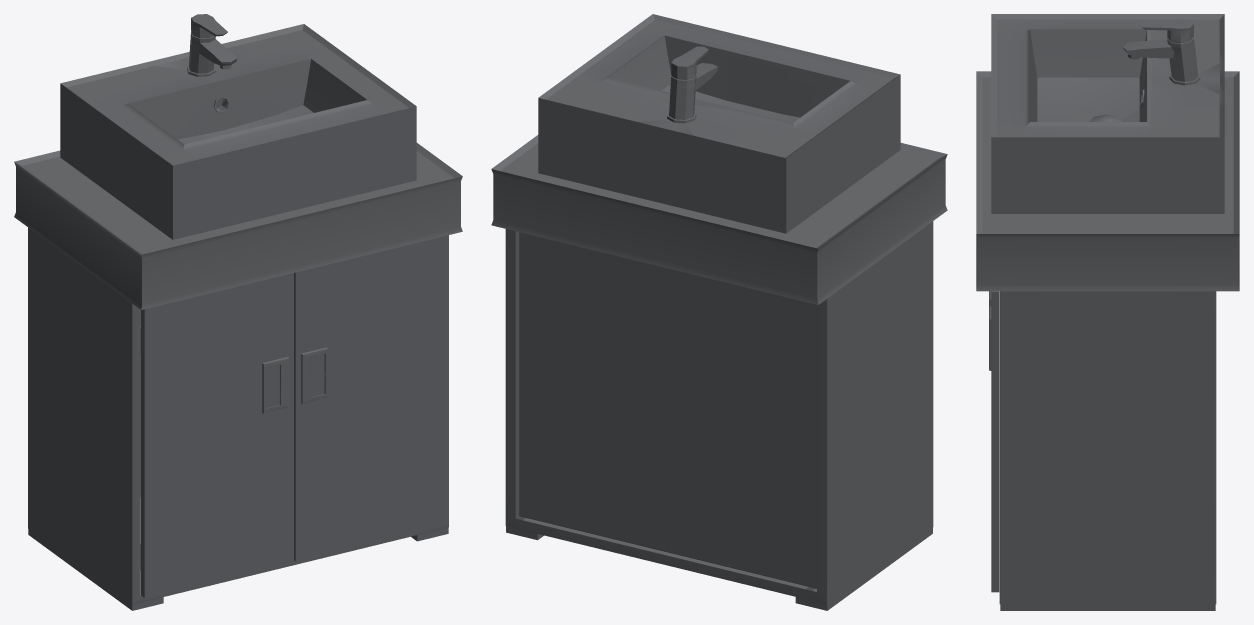
Rendered from SinkModel.fbx.
The picture shows the model from 3 angles, left to right: view 1: azimuth 30°, elevation 25°; view 2: azimuth 150°, elevation 25°; view 3: azimuth 270°, elevation 25°; orthographic projection. The views are drawn at different scales.
Parts seen in each view (by area): view 1: sink_GEO, sink_doorL_GEO, sink_doorR_GEO, sink_cabinet_GEO, sink_stand_GEO, sink_handle_GEO, sink_doornobL_GEO, sink_doornobR_GEO; view 2: sink_cabinet_GEO, sink_GEO, sink_stand_GEO, sink_handle_GEO; view 3: sink_cabinet_GEO, sink_GEO, sink_stand_GEO, sink_doorR_GEO, sink_handle_GEO.
Part boxes in pixels (x1,y1,x2,y2): sink_GEO: (60, 24, 416, 239); sink_doorL_GEO: (141, 273, 293, 597); sink_doorR_GEO: (294, 236, 444, 561); sink_cabinet_GEO: (28, 227, 448, 610); sink_stand_GEO: (14, 143, 462, 309); sink_handle_GEO: (189, 14, 236, 73); sink_doornobL_GEO: (262, 357, 288, 413); sink_doornobR_GEO: (301, 347, 327, 403); sink_cabinet_GEO: (505, 221, 933, 610); sink_GEO: (538, 14, 900, 233); sink_stand_GEO: (491, 135, 947, 304); sink_handle_GEO: (669, 46, 717, 123); sink_cabinet_GEO: (999, 291, 1216, 610); sink_GEO: (991, 14, 1224, 213); sink_stand_GEO: (976, 71, 1239, 291); sink_doorR_GEO: (991, 291, 999, 592); sink_handle_GEO: (1123, 19, 1198, 81).
Bounding box in the file's own units: 65.84 × 95.75 × 45.1.
Materials: 1 (1 with a texture image).
